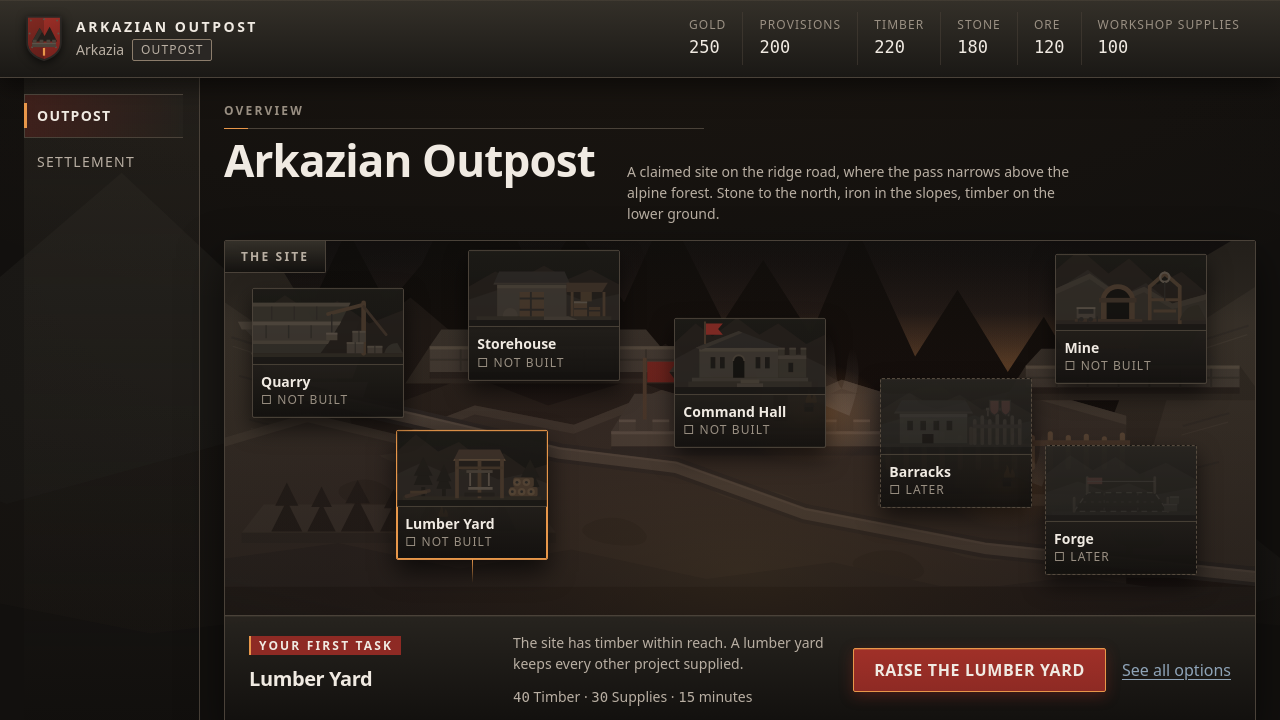
Test: Construction — the confirm screen › returns to the settlement on cancel, having spent nothing
The image size is (1280, 720).
Click the button "Raise the Lumber Yard": (980, 670) top-left (853, 648), bottom-right (1106, 692)
(page scrolled)
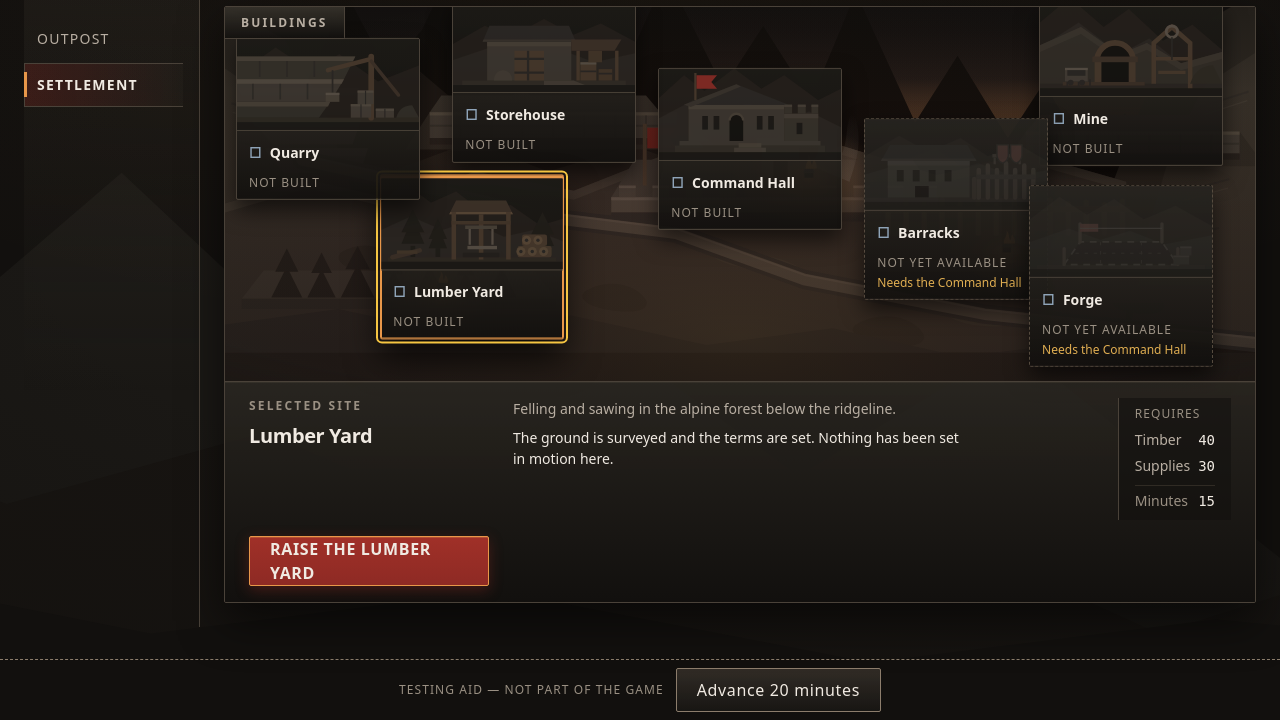
Click the link "Raise the Lumber Yard": (369, 562) top-left (249, 536), bottom-right (489, 586)
(page scrolled)
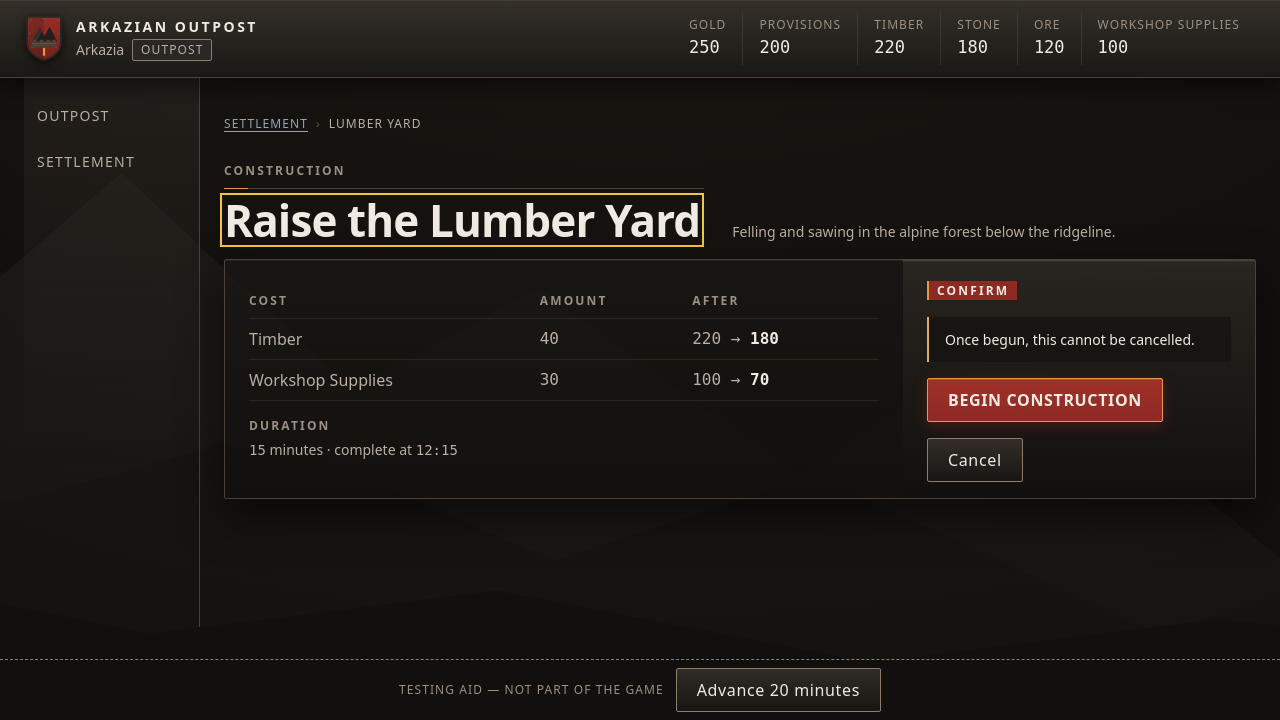
Click the button "Cancel": (975, 460) top-left (927, 438), bottom-right (1023, 482)
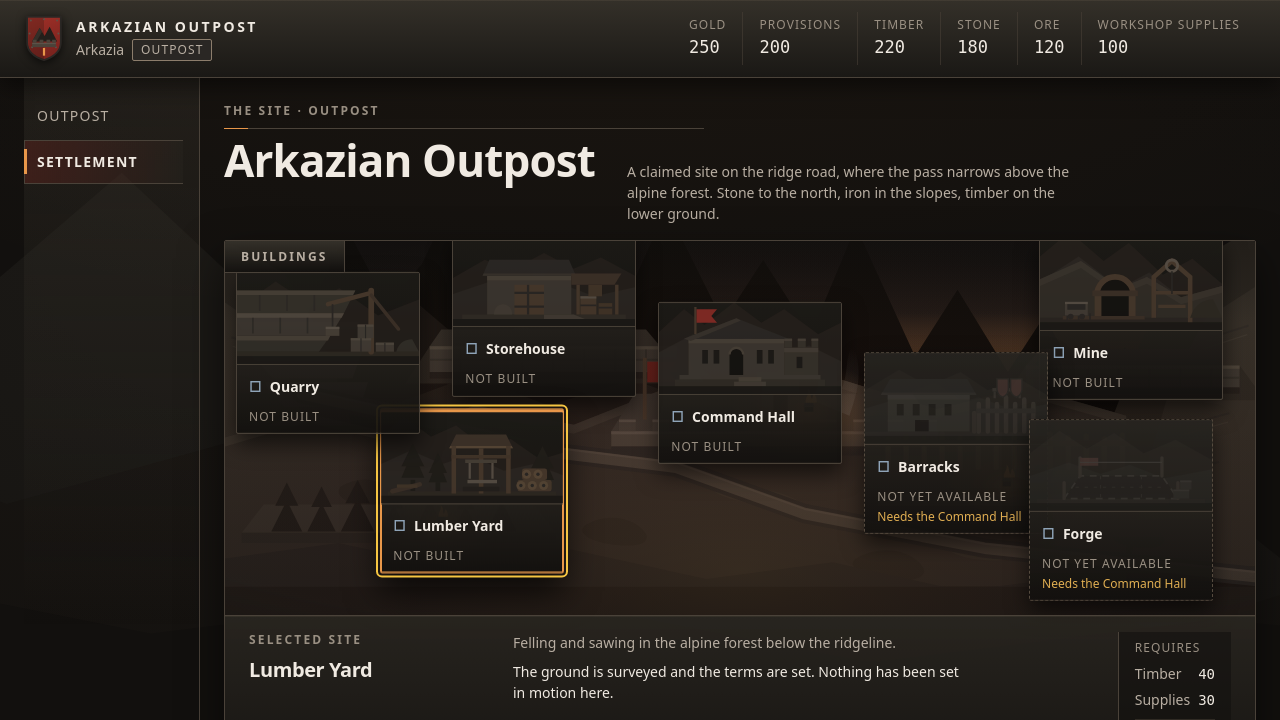
Expected: the element "Buildings" is shown, top-left (225, 240), bottom-right (1255, 615)
